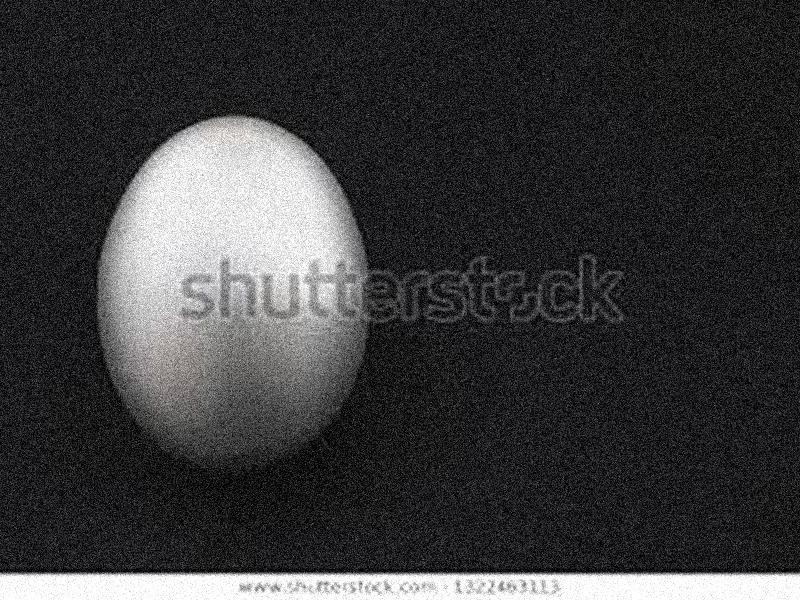Eggs: (94, 112, 362, 467)
